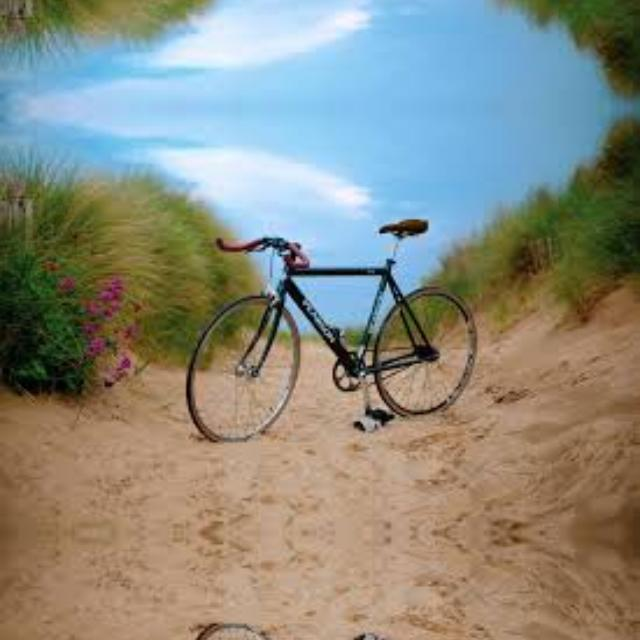obstacle: (163, 221, 532, 445), (163, 621, 532, 640)
